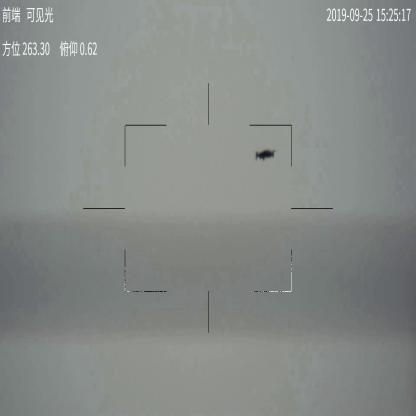uav: (254, 145, 276, 162)
